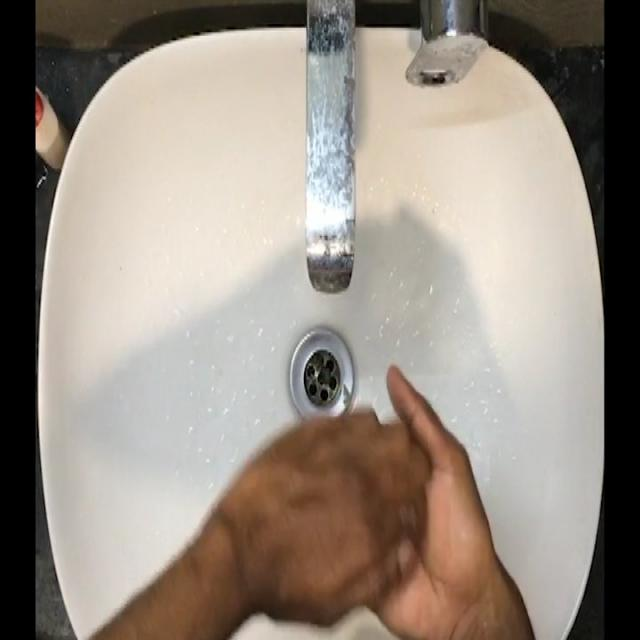step_4: (218, 363, 482, 625)
